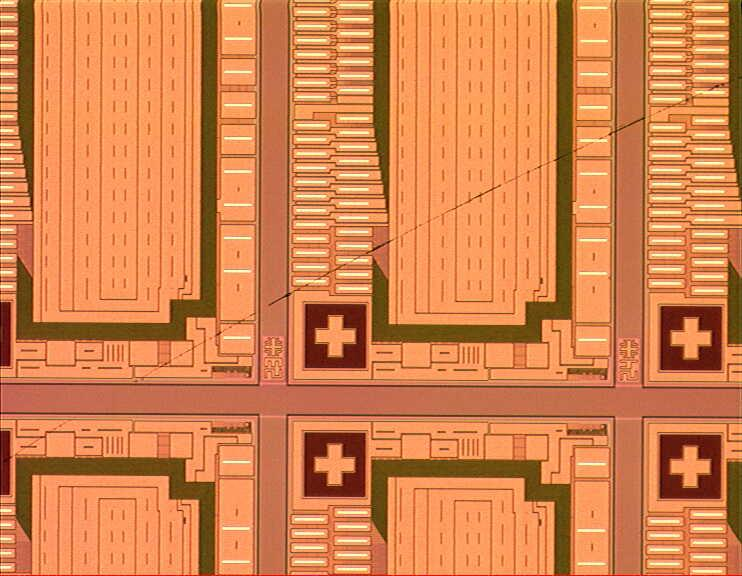SCRATCH: (1, 68, 742, 479)
